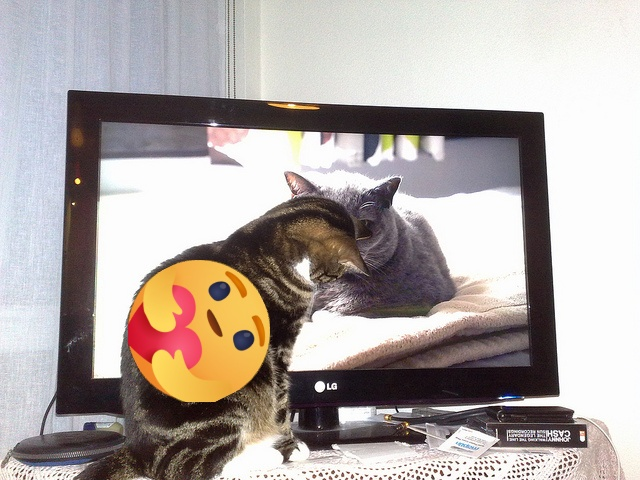care: (128, 260, 270, 402)
